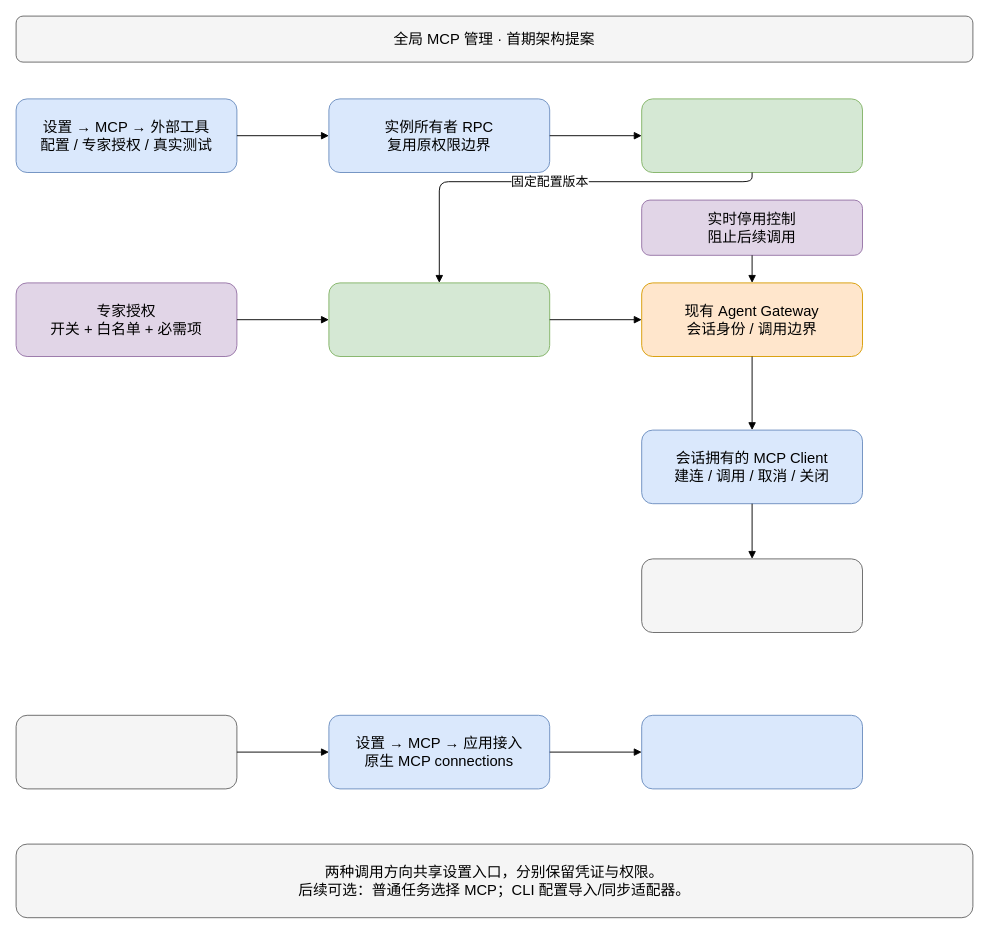
Image size: 989x934. Some labels were removed from this diagram. The centre of each missing label's shape, as x and y in pixels:
Synara 项目 / 任务 保留原生范围与授权: pixel 751 751
任务有效绑定快照 授权来源 + 连接 revision: pixel 439 319
共享连接目录 不可变配置版本: pixel 751 135
外部 MCP 服务 stdio / HTTP: pixel 751 595
外部应用: pixel 126 751
